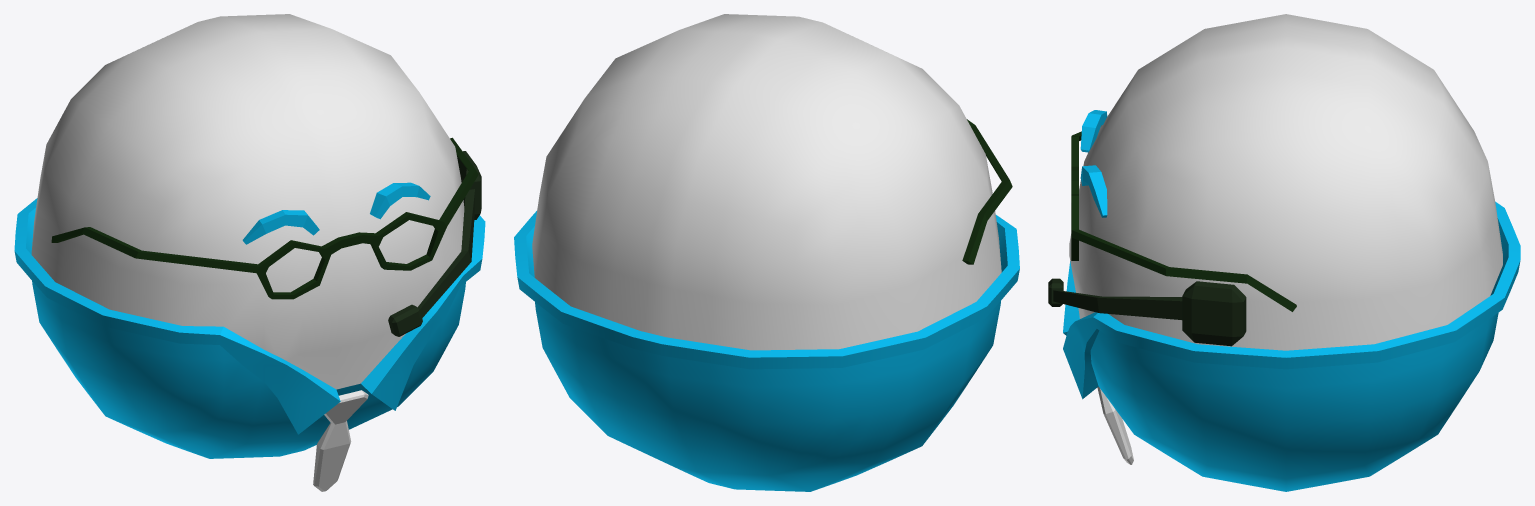
The model's file is NewsSpeaker.fbx.
3 renders of one model, left to right at view 1: azimuth 30°, elevation 25°; view 2: azimuth 150°, elevation 25°; view 3: azimuth 270°, elevation 25°, orthographic. The views are drawn at different scales.
Visible parts, largest first — view 1: Cube; view 2: Cube; view 3: Cube.
Boxes of the visible parts, left/top/right/bottom form: Cube: left=14, top=14, right=485, bottom=491; Cube: left=514, top=14, right=1019, bottom=491; Cube: left=1048, top=14, right=1520, bottom=491.
Size of the model in its own units: 269 by 252 by 255.
